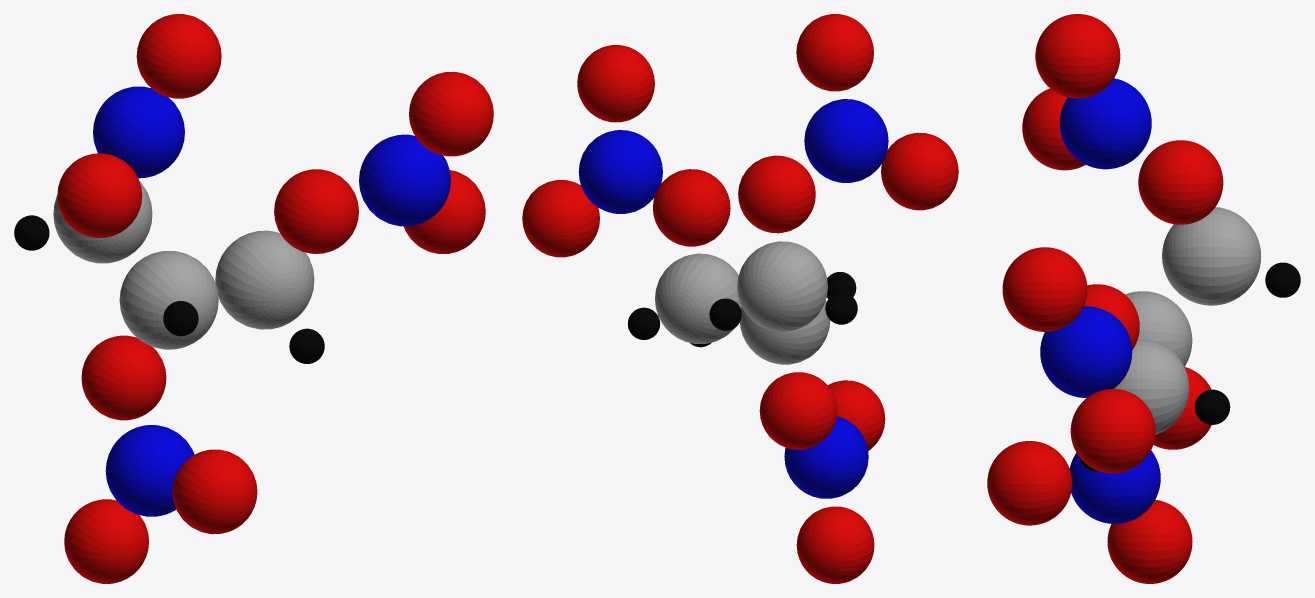
The model's file is Nitroglycerin.glb.
The picture shows the model from 3 angles, left to right: view 1: azimuth 30°, elevation 25°; view 2: azimuth 150°, elevation 25°; view 3: azimuth 270°, elevation 25°; orthographic projection. The views are drawn at different scales.
Visible parts, largest first — view 1: world; view 2: world; view 3: world.
Boxes of the visible parts, x1,y1,x2,y2 form: world: (14,14,493,583); world: (522,14,958,583); world: (987,14,1300,583).
Bounding box in the file's own units: 7.2 × 9.03 × 4.43.
